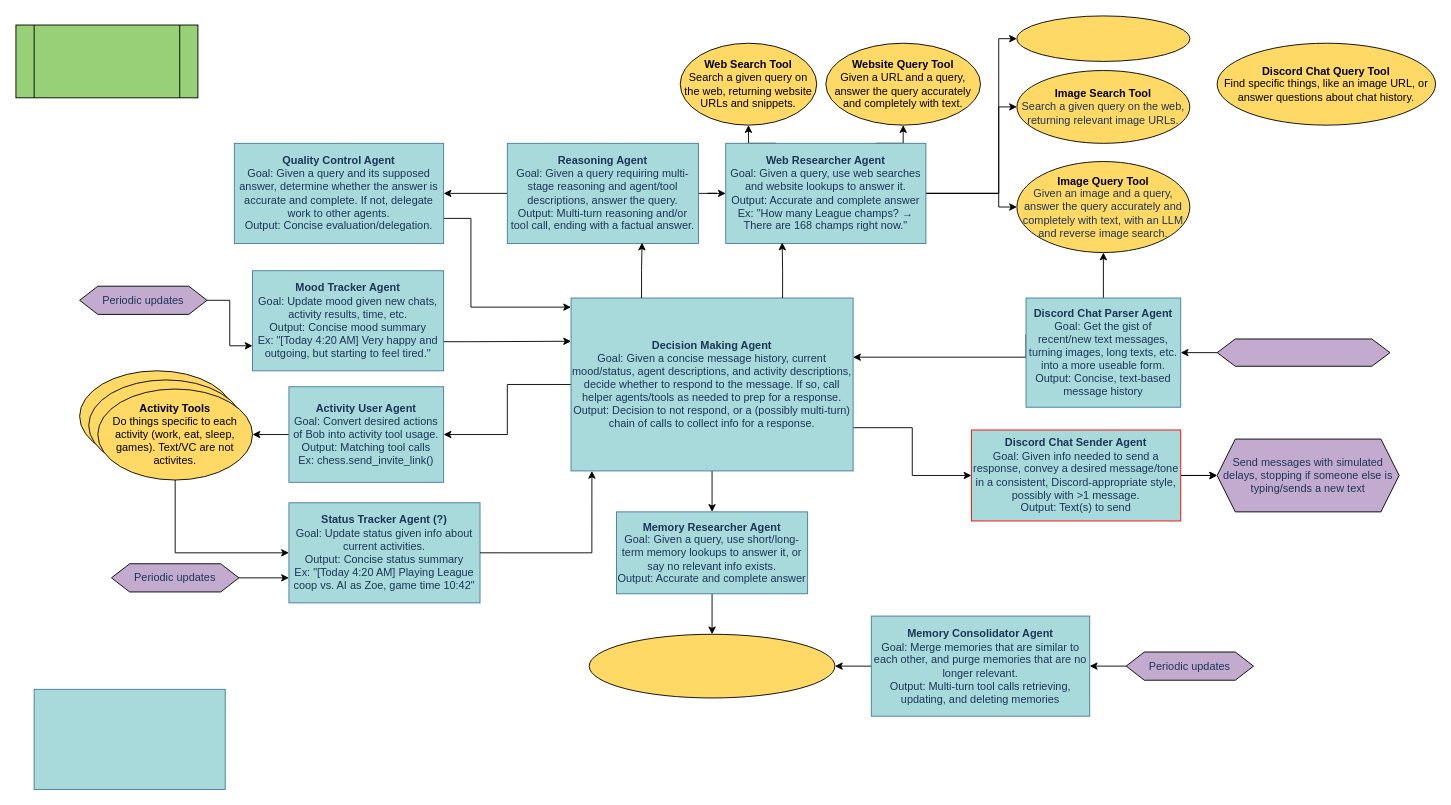
Some shapes in this 1451 by 805 pixel diagram are drawn without their labels. Here are the shapes that lost their labels. From the top down, the box of each, then its label:
(1016, 15, 1190, 61): YouTube Video Tool Understand a YouTube video.
(15, 24, 198, 98): Boxes: Agents Ovals: Tools Hexagons: Code Red: NSFW Model
(1216, 338, 1390, 366): New message (pinged or not)
(588, 633, 835, 698): Long-Term/Entity Memory Query Tool Retrieve relevant memories for a given query.
(33, 688, 225, 789): Todo Identifying existing relationships Voice chat (needs real-time)
